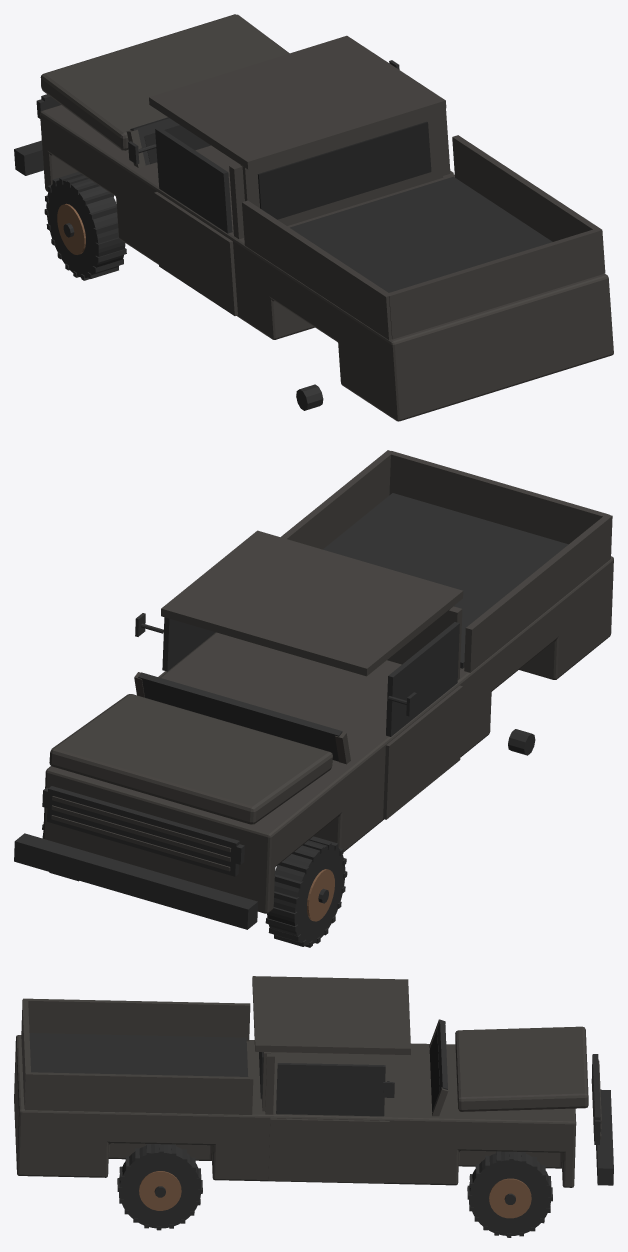
The model's file is wreck_car.glb.
The picture shows the model from 3 angles, top to bottom: view 1: azimuth 30°, elevation 25°; view 2: azimuth 150°, elevation 25°; view 3: azimuth 270°, elevation 25°; orthographic projection. The views are drawn at different scales.
Visible parts, largest first — view 1: wreck_car; view 2: wreck_car; view 3: wreck_car.
Boxes of the visible parts, bbox=[...] form: wreck_car: bbox=[14, 14, 613, 421]; wreck_car: bbox=[14, 450, 613, 947]; wreck_car: bbox=[14, 976, 613, 1237].
Bounding box in the file's own units: 2.23 × 1.86 × 5.28.
